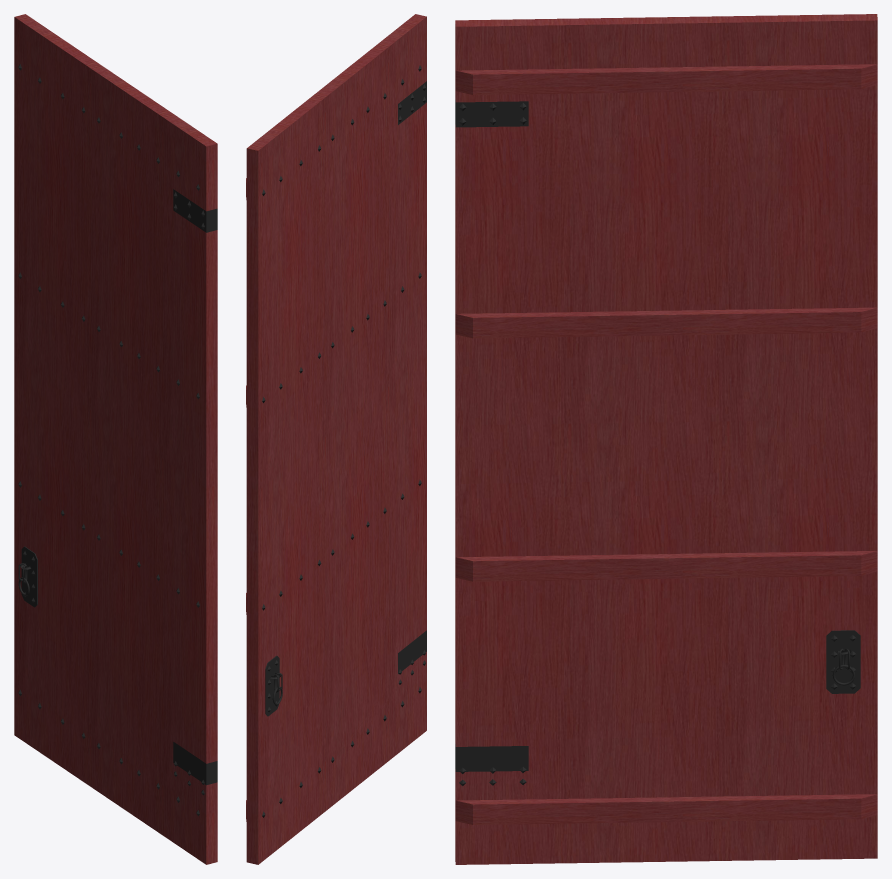
File: door1.fbx
The picture shows the model from 3 angles, left to right: view 1: azimuth 30°, elevation 25°; view 2: azimuth 150°, elevation 25°; view 3: azimuth 270°, elevation 25°; orthographic projection. The views are drawn at different scales.
Parts seen in each view (by area): view 1: Group1, Group15; view 2: Group1, Group15; view 3: Group1, Group9, Group7, Group3, Group5, Group10.
Part boxes in pixels (x1=…): Group1: x1=14, y1=14, x2=217, y2=864; Group15: x1=21, y1=546, x2=37, y2=607; Group1: x1=246, y1=14, x2=426, y2=864; Group15: x1=265, y1=655, x2=279, y2=716; Group1: x1=455, y1=14, x2=877, y2=864; Group9: x1=455, y1=307, x2=877, y2=338; Group7: x1=455, y1=794, x2=877, y2=824; Group3: x1=455, y1=64, x2=877, y2=94; Group5: x1=455, y1=551, x2=877, y2=581; Group10: x1=826, y1=630, x2=860, y2=693.
Size of the model in its own units: 105 by 1902 by 869.
